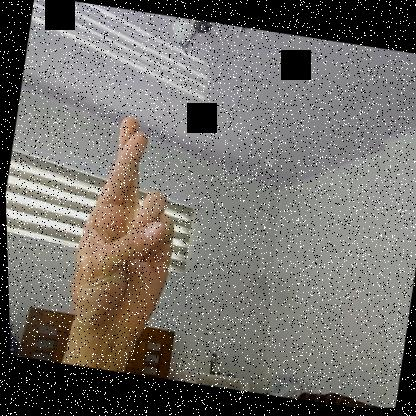R: (58, 107, 197, 350)
